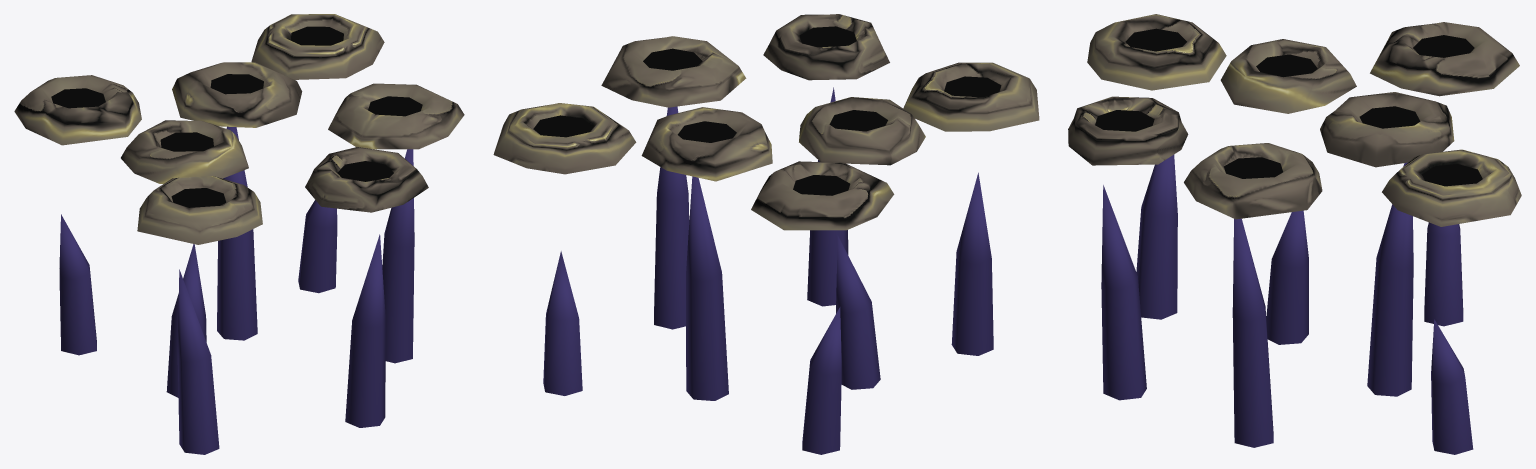
File: Prop_SpikeTrap_01.FBX
3 renders of one model, left to right at view 1: azimuth 30°, elevation 25°; view 2: azimuth 150°, elevation 25°; view 3: azimuth 270°, elevation 25°, orthographic. The views are drawn at different scales.
Visible parts, largest first — view 1: Prop_SpikeTrap_01_Base, Prop_SpikeTrap_01_Spikes; view 2: Prop_SpikeTrap_01_Base, Prop_SpikeTrap_01_Spikes; view 3: Prop_SpikeTrap_01_Base, Prop_SpikeTrap_01_Spikes.
Boxes of the visible parts, x1,y1,x2,y2 form: Prop_SpikeTrap_01_Base: [14, 14, 464, 244]; Prop_SpikeTrap_01_Spikes: [59, 126, 414, 454]; Prop_SpikeTrap_01_Base: [493, 14, 1039, 230]; Prop_SpikeTrap_01_Spikes: [543, 87, 993, 454]; Prop_SpikeTrap_01_Base: [1068, 14, 1521, 226]; Prop_SpikeTrap_01_Spikes: [1101, 154, 1473, 454].
Size of the model in its own units: 2.68 by 1.72 by 2.55.
